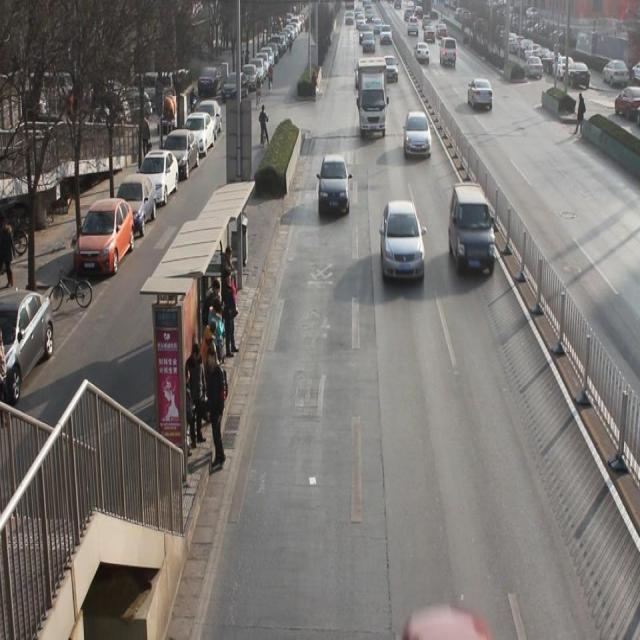bus: (359, 63, 387, 138)
car: (452, 182, 497, 280), (381, 197, 426, 285), (316, 156, 352, 219), (404, 116, 433, 160), (468, 78, 496, 113), (383, 52, 400, 85), (413, 40, 431, 66), (363, 33, 377, 55), (381, 24, 394, 46)
truck: (441, 36, 458, 68)
